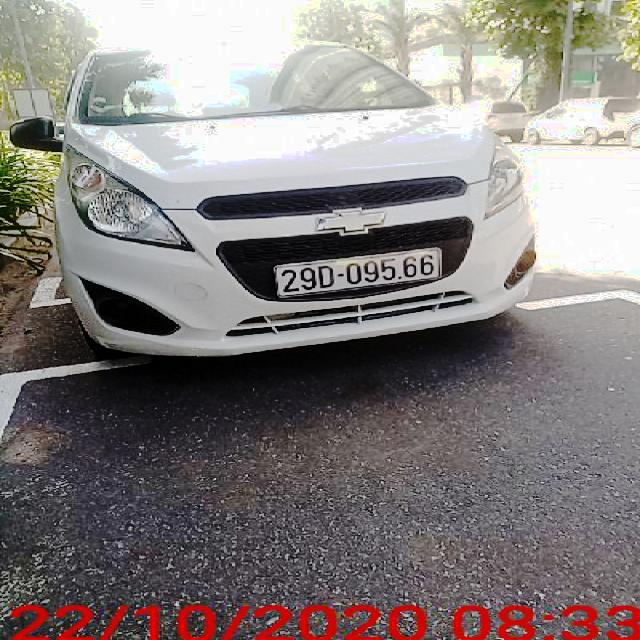license_plate: (274, 250, 442, 298)
